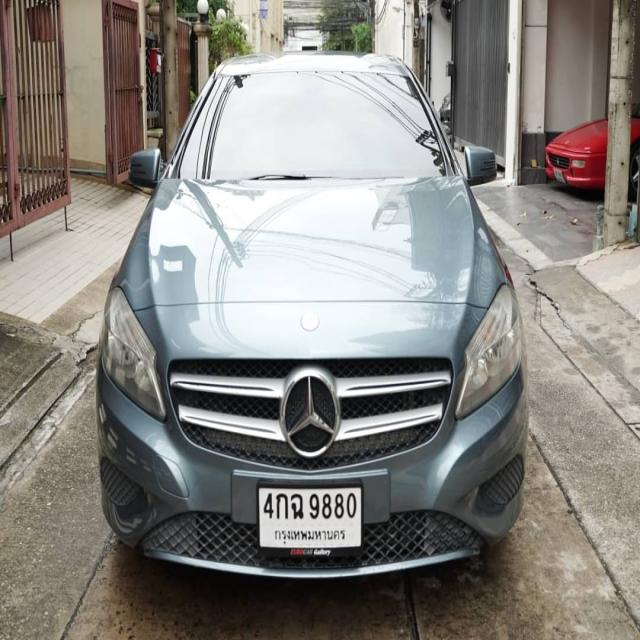license_plate: (255, 482, 366, 561)
